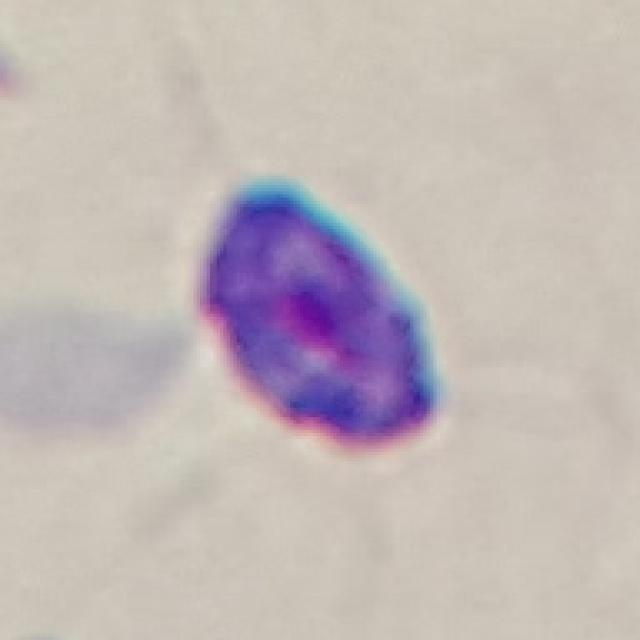non-sperm: (191, 181, 438, 451)
